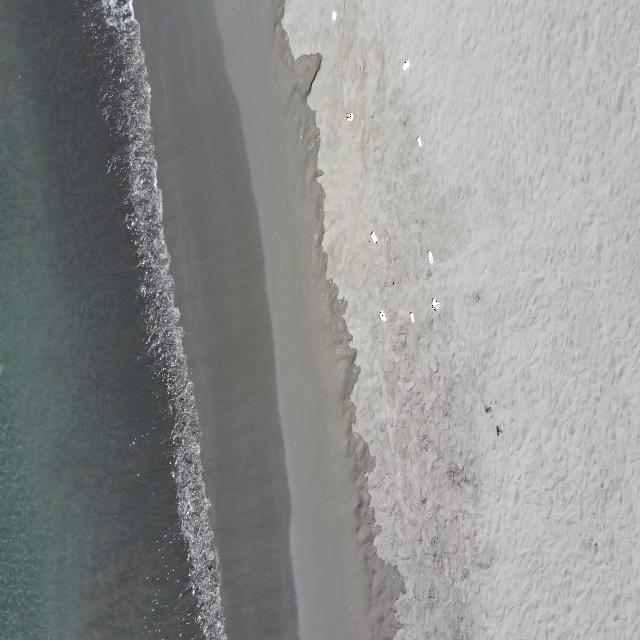Garbage: (432, 298, 439, 310), (415, 136, 422, 147), (369, 231, 375, 243), (344, 111, 352, 120), (427, 249, 432, 263), (380, 310, 386, 320), (402, 60, 408, 70), (331, 9, 335, 20), (409, 312, 413, 322)
